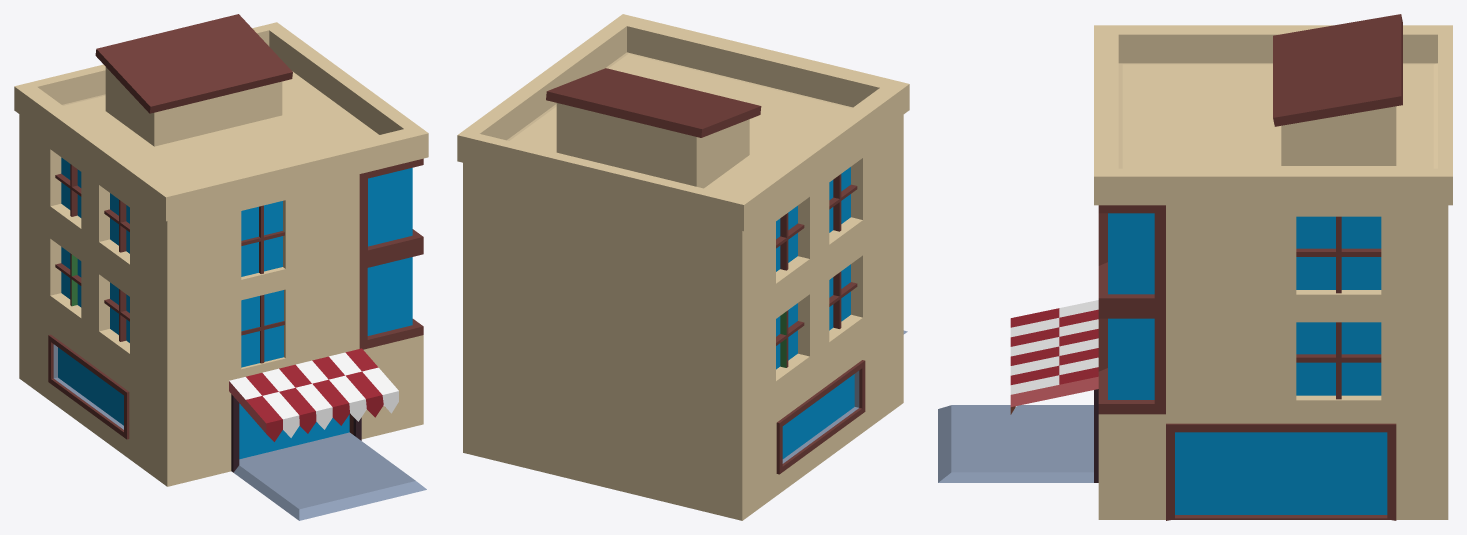
The model's file is house2.fbx.
3 views of the same model, side by side, from view 1: azimuth 30°, elevation 25°; view 2: azimuth 150°, elevation 25°; view 3: azimuth 270°, elevation 25° (orthographic). The views are drawn at different scales.
Visible parts, largest first — view 1: House2; view 2: House2; view 3: House2.
Boxes of the visible parts, <box> form: House2: <box>14,14,428,520</box>; House2: <box>457,14,909,520</box>; House2: <box>938,14,1452,520</box>.
Size of the model in its own units: 2.69 by 3.23 by 3.85.
